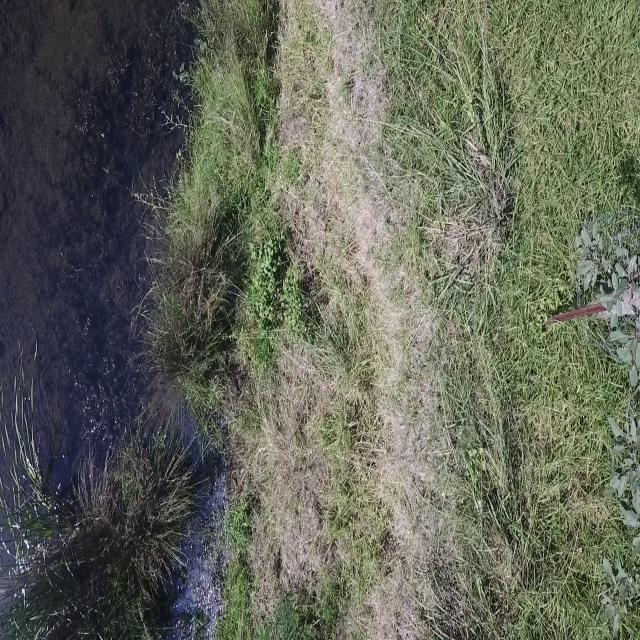Mysore-Thorn-Weed: (266, 589, 321, 640)
